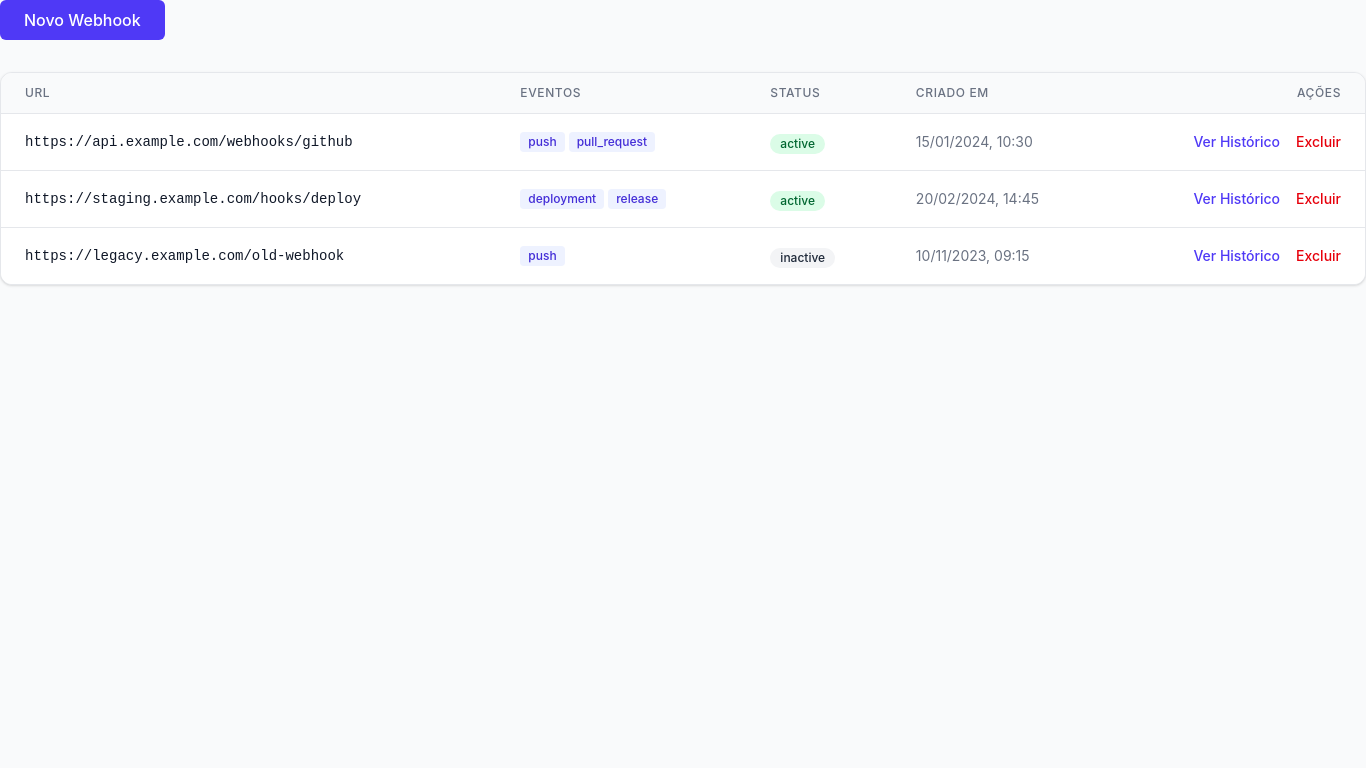
Webhooks Page - Interactions › opens modal when "Novo Webhook" button is clicked
Click the button "Novo Webhook" at (82, 20), box [0, 0, 165, 40]
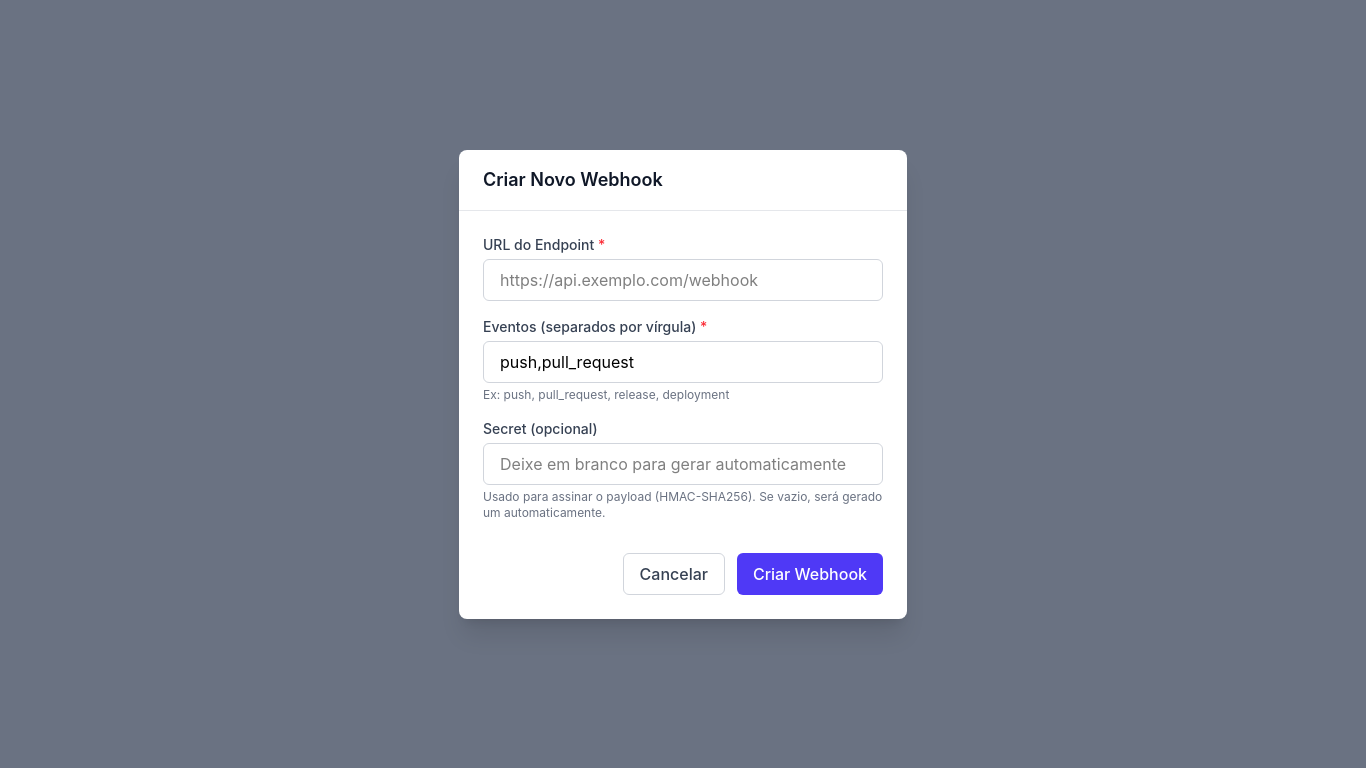
Now the dialog "Criar Novo Webhook" is shown
Now the field labelled "URL do Endpoint *" is shown, box [483, 258, 883, 300]
Now the field labelled "Eventos (separados por vírgula) *" is shown, box [483, 340, 883, 382]
